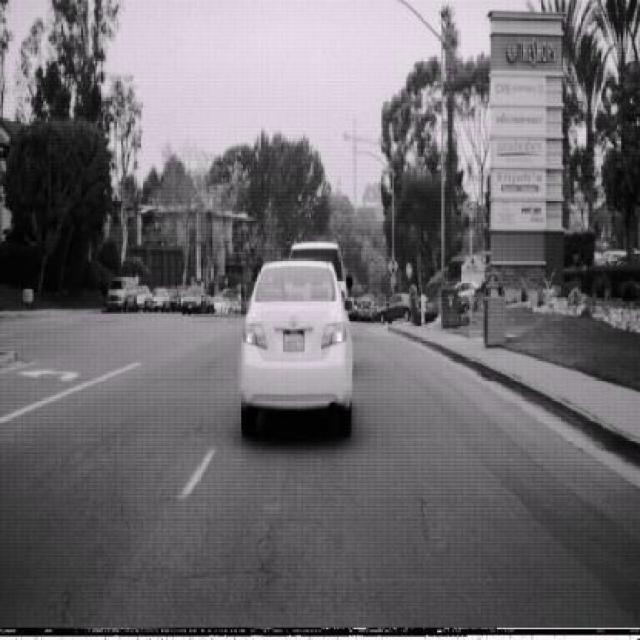signalAhead: (388, 254, 399, 277)
